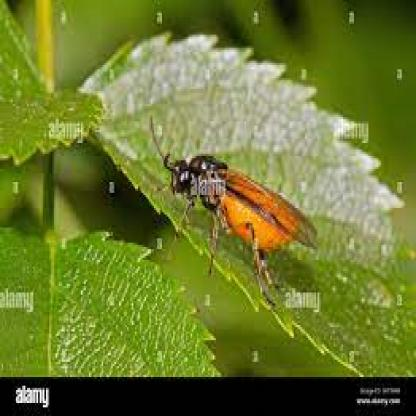sawfly: (144, 113, 320, 310)
